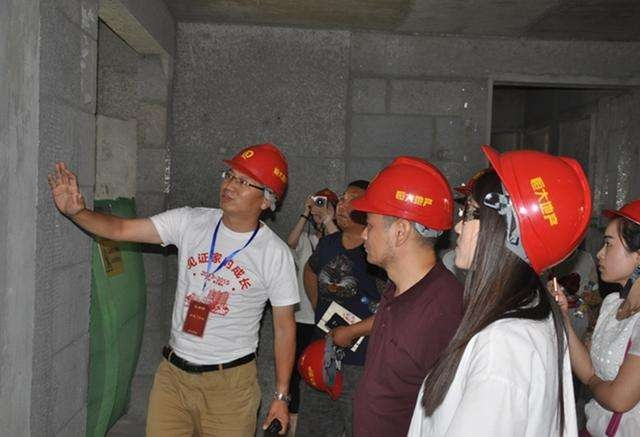none: (332, 177, 370, 236)
red: (454, 139, 593, 289), (359, 156, 452, 271), (212, 137, 287, 224), (595, 192, 640, 293), (306, 185, 337, 227)
